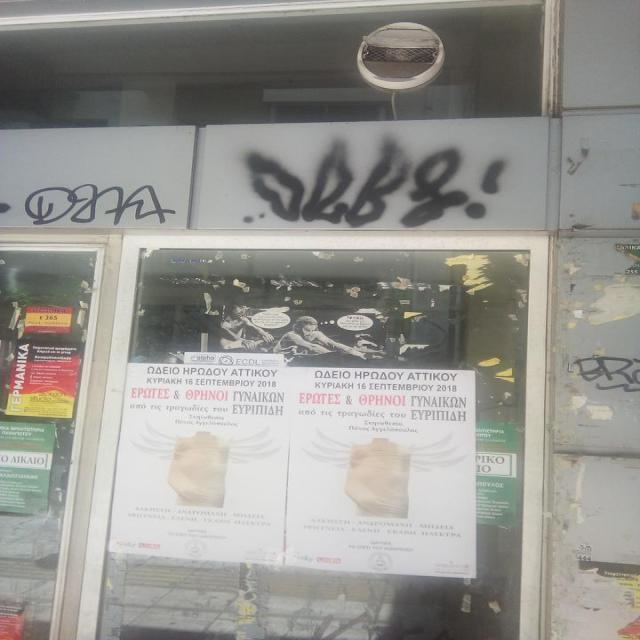nonspitting: (240, 137, 506, 226), (24, 182, 176, 224), (570, 355, 640, 393)
